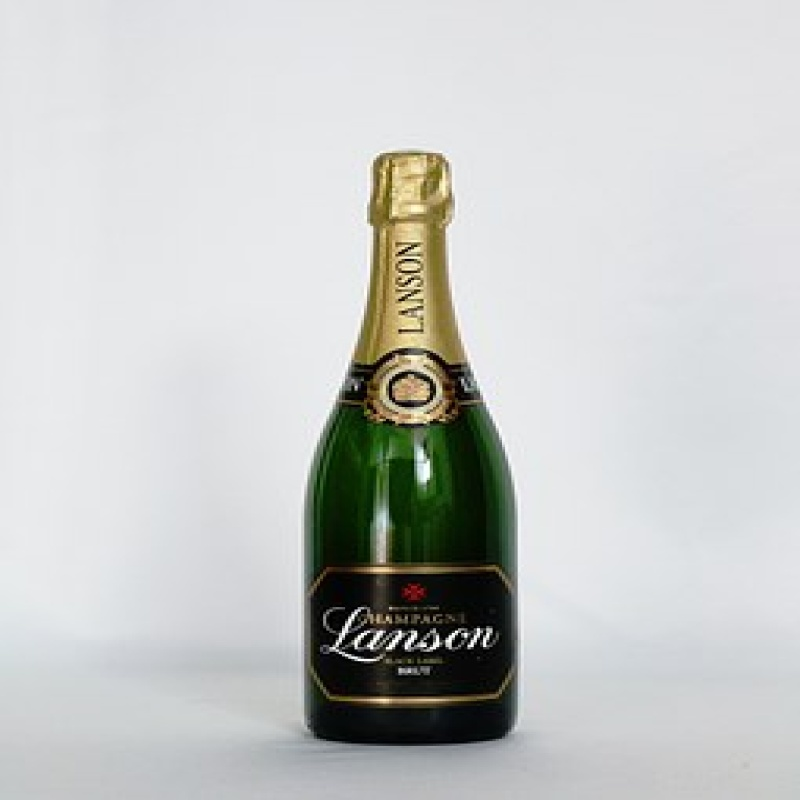wine: (311, 152, 517, 732)
